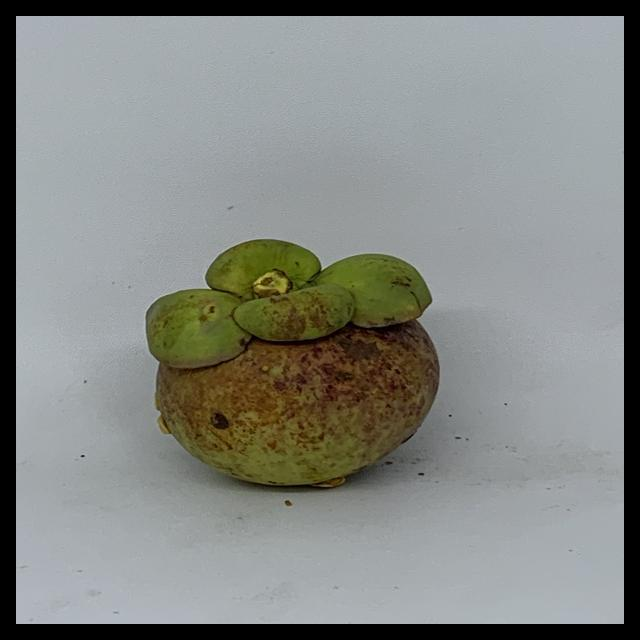mangosteen: (128, 236, 476, 497)
